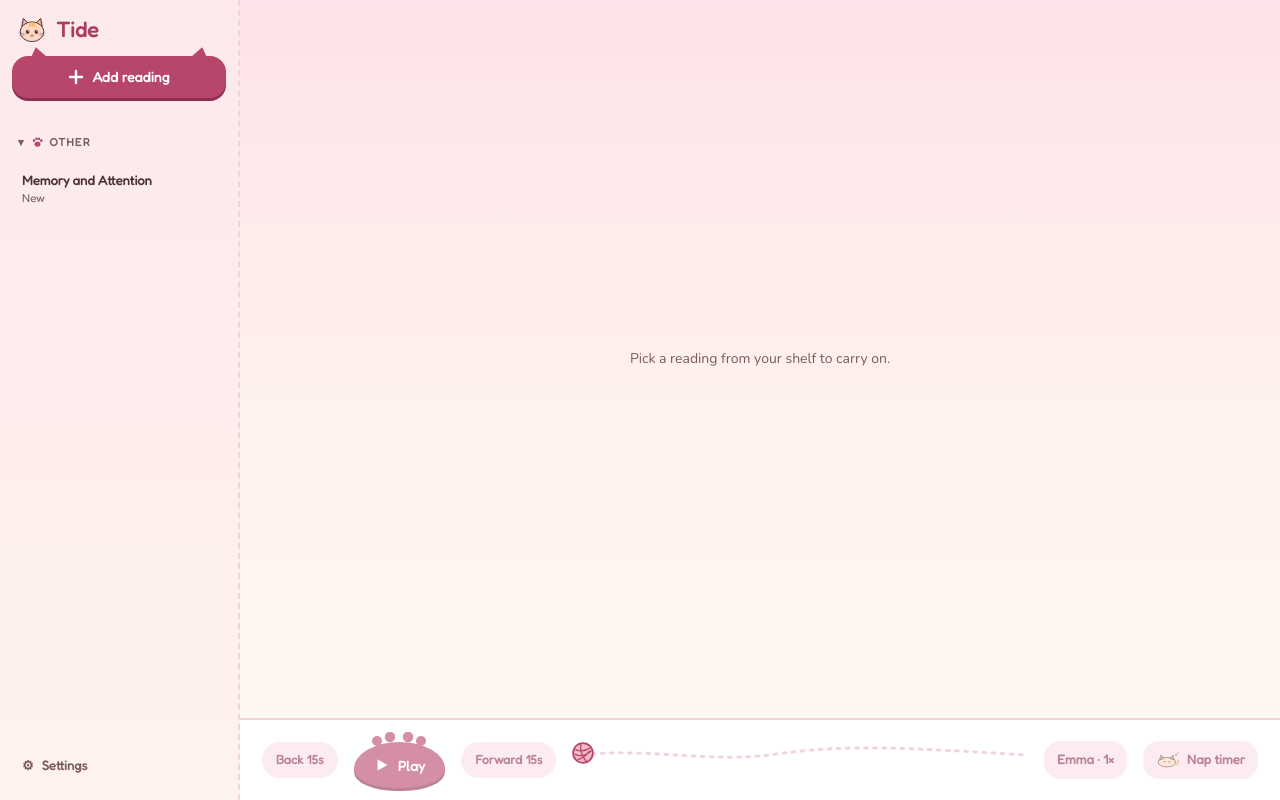
Test: Kitty Mochi peeking › peeks only while playing
The width and height of the screenshot is (1280, 800).
Click the button "Memory and Attention New" at (119, 189), box x1=12 y1=164 x2=226 y2=214
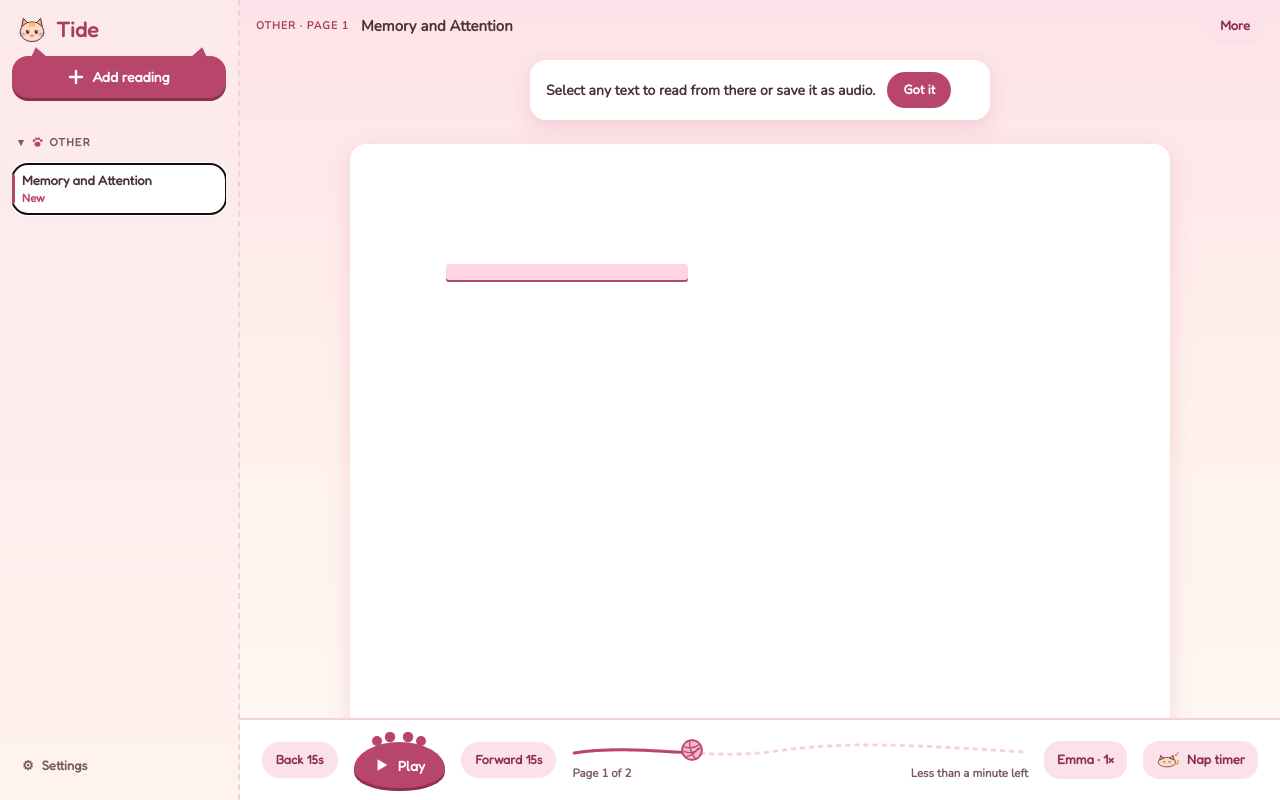
Expected: the element with test id "sentence-highlight" is shown, x1=446 y1=264 x2=688 y2=282
Click the button "Play" at (399, 765), box x1=354 y1=742 x2=445 y2=788
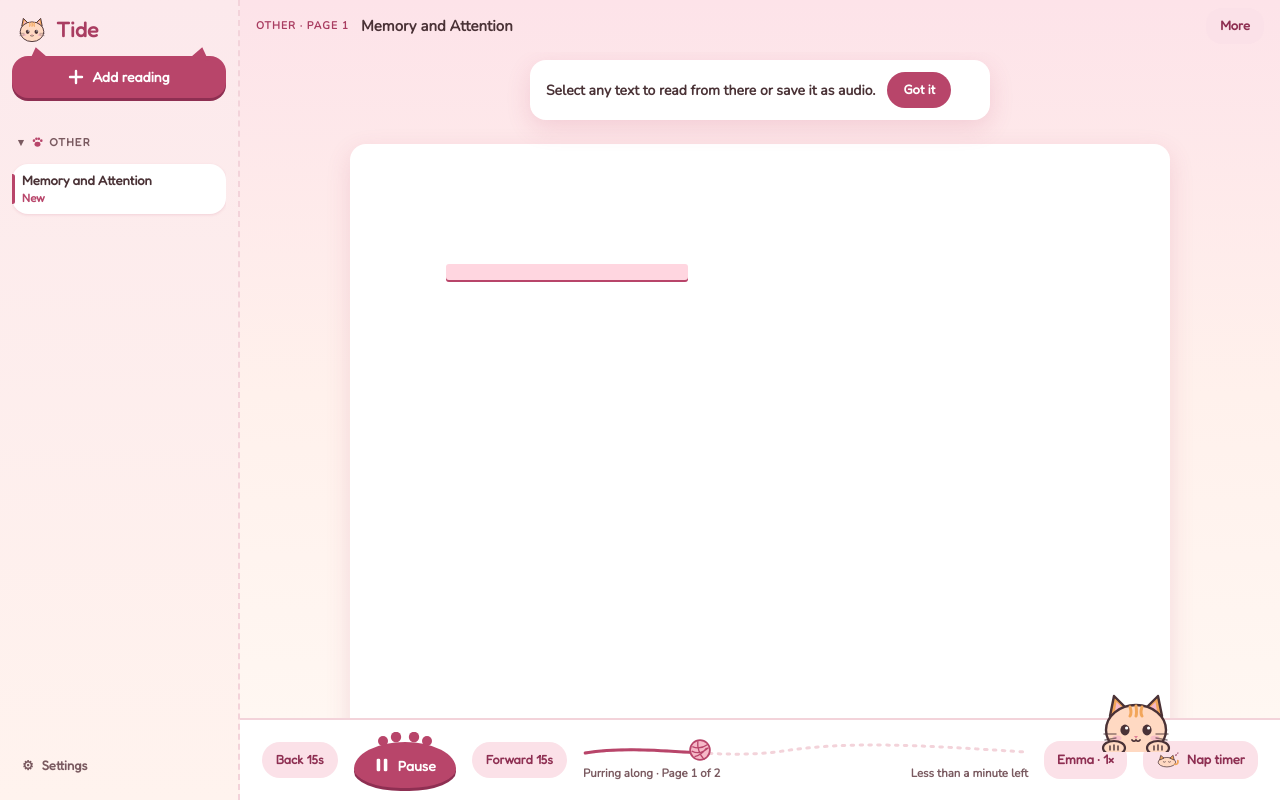
Expected: the 4th icon is shown, x1=1088 y1=690 x2=1184 y2=752
Expected: the footer named "Player" shows "Purring along", x1=583 y1=765 x2=653 y2=781
Click the button "Pause" at (405, 765), box x1=354 y1=742 x2=456 y2=788
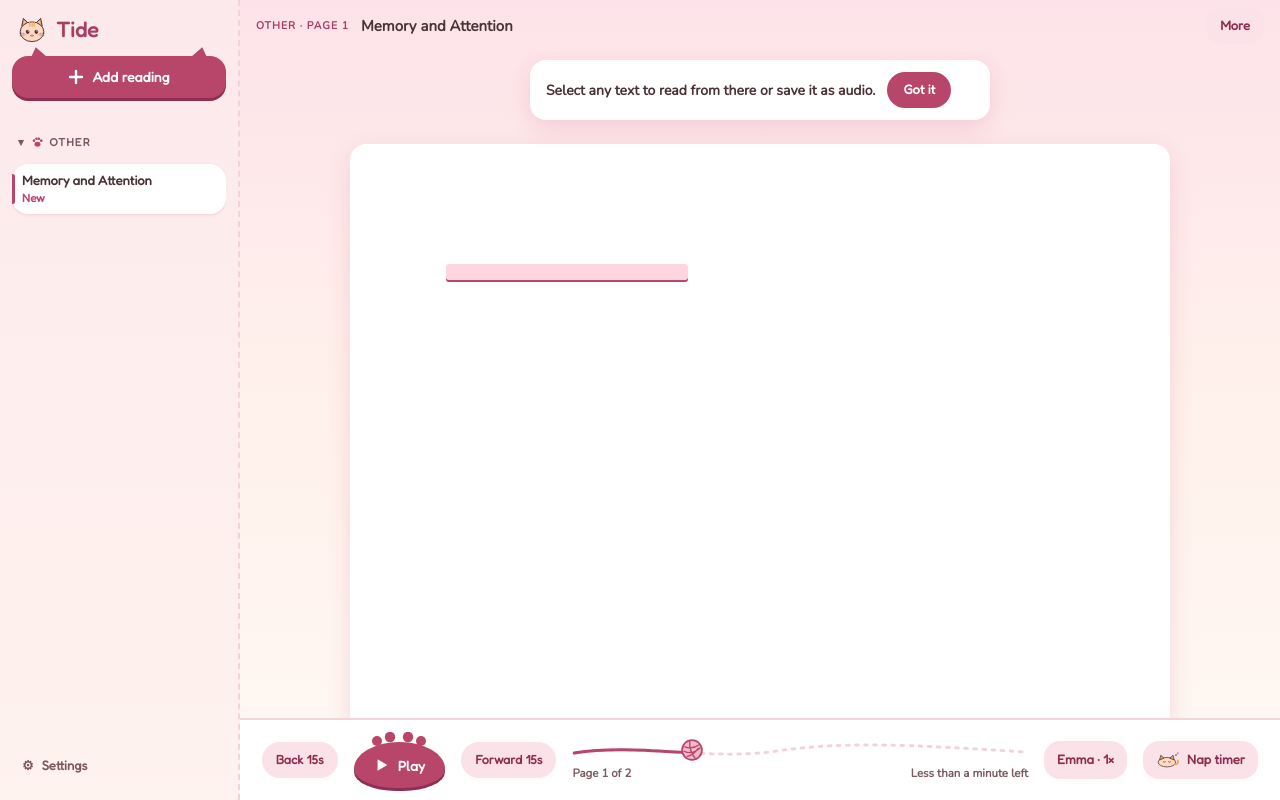
Expected: the text labelled "Player" no longer shows "Purring along"
